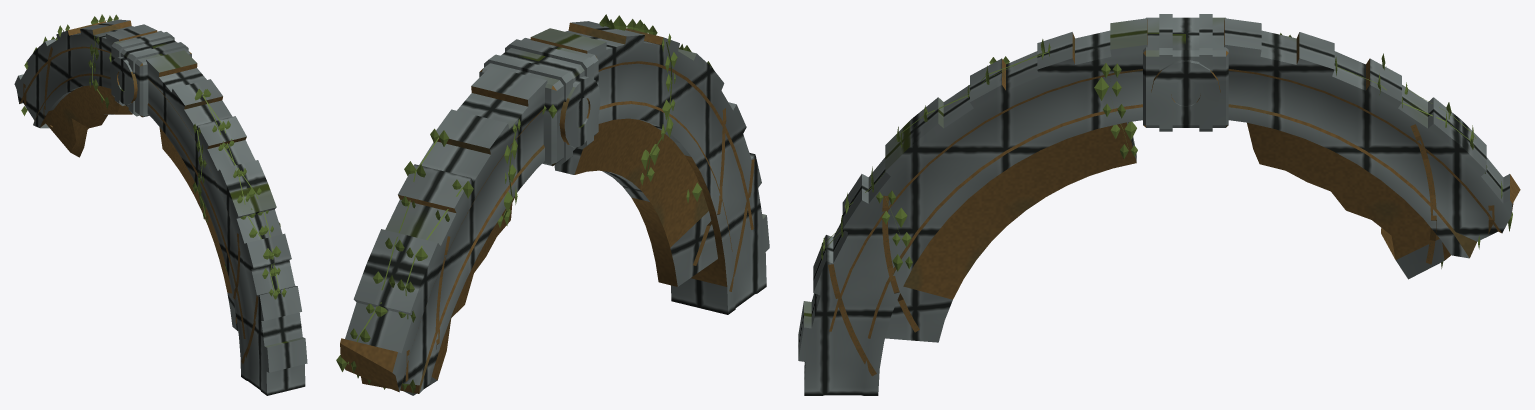
The model's file is BigGearBroken.fbx.
The picture shows the model from 3 angles, left to right: view 1: azimuth 30°, elevation 25°; view 2: azimuth 150°, elevation 25°; view 3: azimuth 270°, elevation 25°; orthographic projection. The views are drawn at different scales.
Visible parts, largest first — view 1: BigGearBroken.002; view 2: BigGearBroken.002; view 3: BigGearBroken.002.
Part boxes in pixels (x1=…): BigGearBroken.002: x1=14, y1=14, x2=307, y2=395; BigGearBroken.002: x1=336, y1=14, x2=769, y2=395; BigGearBroken.002: x1=798, y1=14, x2=1520, y2=395.
Bounding box in the file's own units: 6.15 × 24.78 × 46.11.
4 materials, 3 textured.
